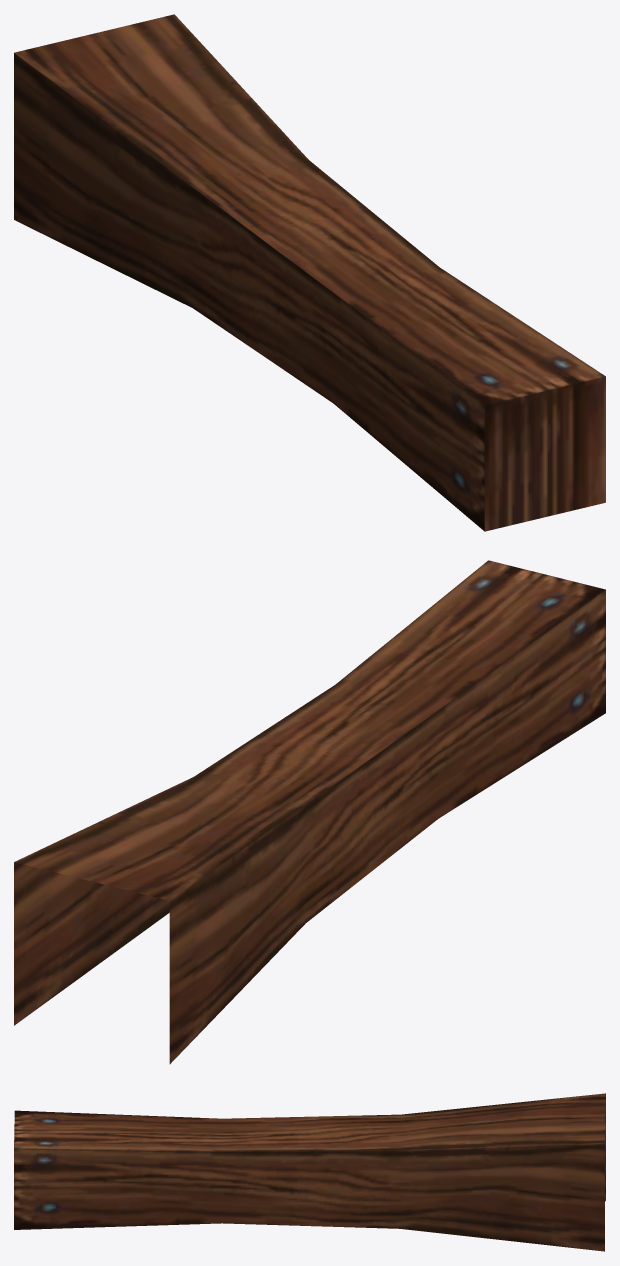
Rendered from OVERHILL_A_01_POST30.fbx.
3 renders of one model, top to bottom at view 1: azimuth 30°, elevation 25°; view 2: azimuth 150°, elevation 25°; view 3: azimuth 270°, elevation 25°, orthographic. The views are drawn at different scales.
Visible parts, largest first — view 1: OVERHILL_A_01_POST30; view 2: OVERHILL_A_01_POST30; view 3: OVERHILL_A_01_POST30.
Boxes of the visible parts, x1,y1,x2,y2 form: OVERHILL_A_01_POST30: (14, 14, 605, 531); OVERHILL_A_01_POST30: (14, 560, 605, 1064); OVERHILL_A_01_POST30: (14, 1093, 605, 1251).
Size of the model in its own units: 4299 by 4299 by 21380.
Materials: 1 (1 with a texture image).
